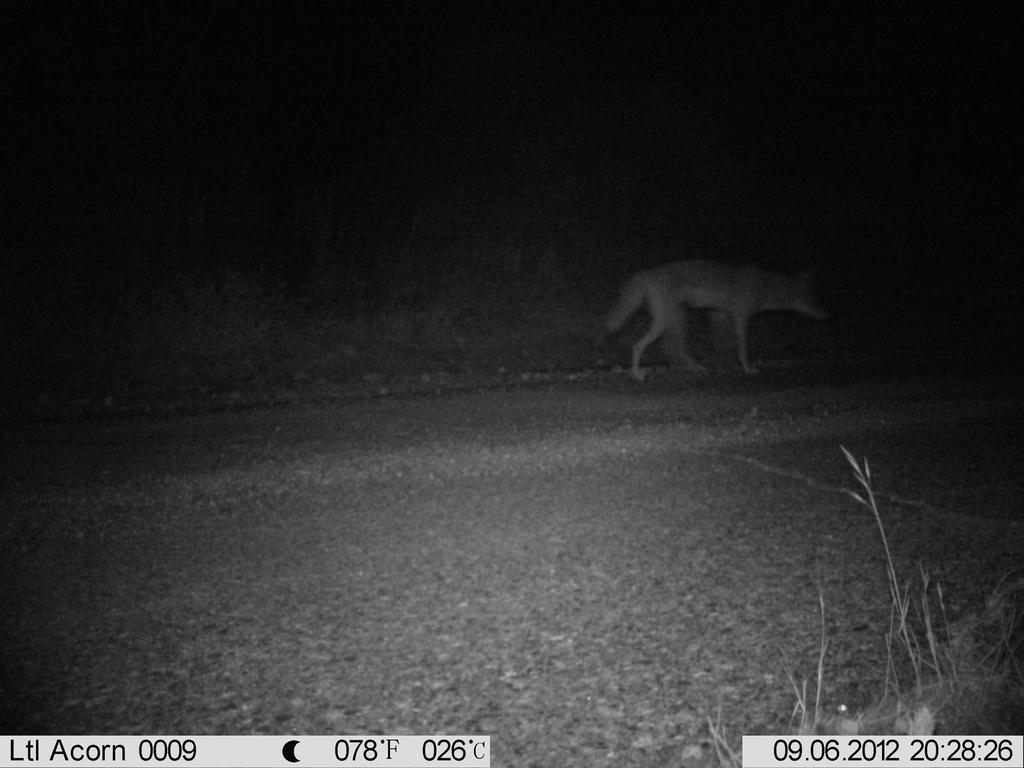coyote: (603, 237, 844, 387)
